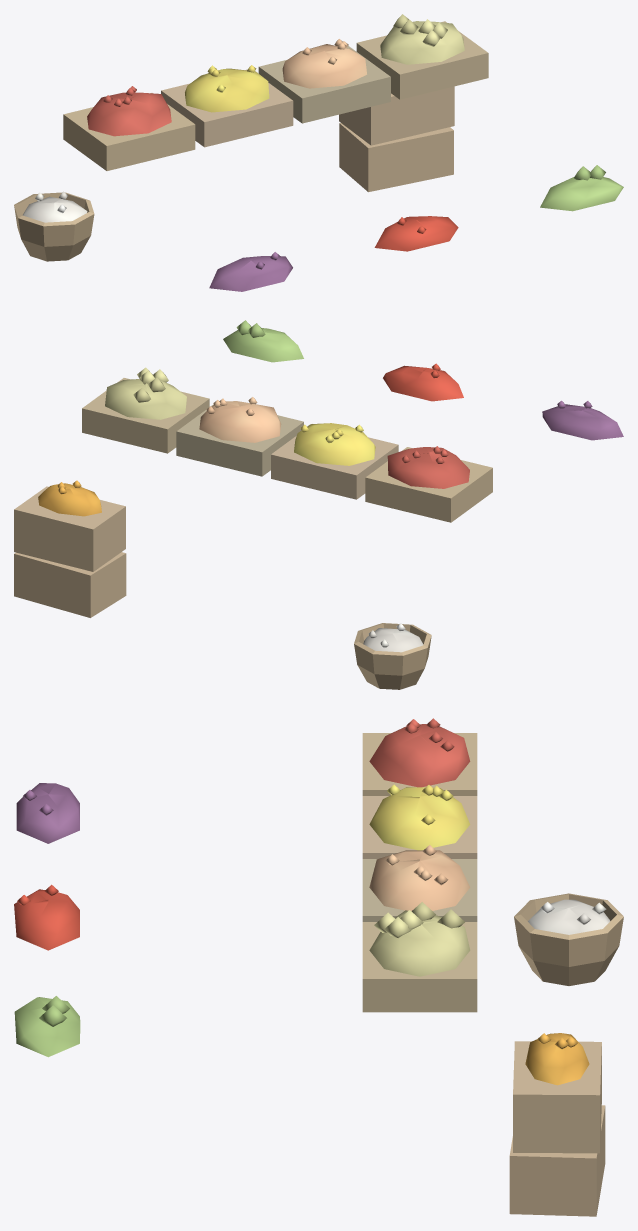
The model's file is SM_BM_BP_StallGoods_B.glb.
3 views of the same model, one above another, from view 1: azimuth 30°, elevation 25°; view 2: azimuth 150°, elevation 25°; view 3: azimuth 270°, elevation 25° (orthographic). The views are drawn at different scales.
Parts seen in each view (by area): view 1: SM_BM_BP_StallGoods_B; view 2: SM_BM_BP_StallGoods_B; view 3: SM_BM_BP_StallGoods_B.
Part boxes in pixels (x1,y1,x2,y2): SM_BM_BP_StallGoods_B: (14,14,623,291); SM_BM_BP_StallGoods_B: (14,320,623,689); SM_BM_BP_StallGoods_B: (14,718,623,1216).
Size of the model in its own units: 2.82 by 1.26 by 2.66.
